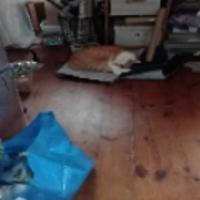asleep: (66, 45, 142, 74)
